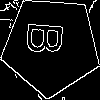B: (26, 21, 73, 57)
